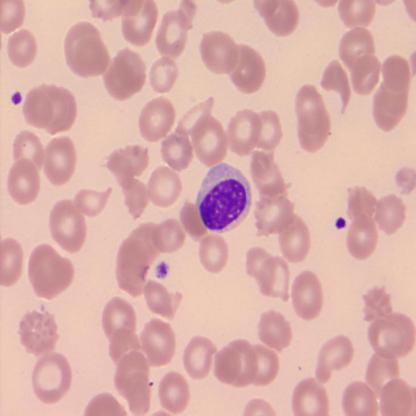Myelocyte: (197, 164, 252, 235)
